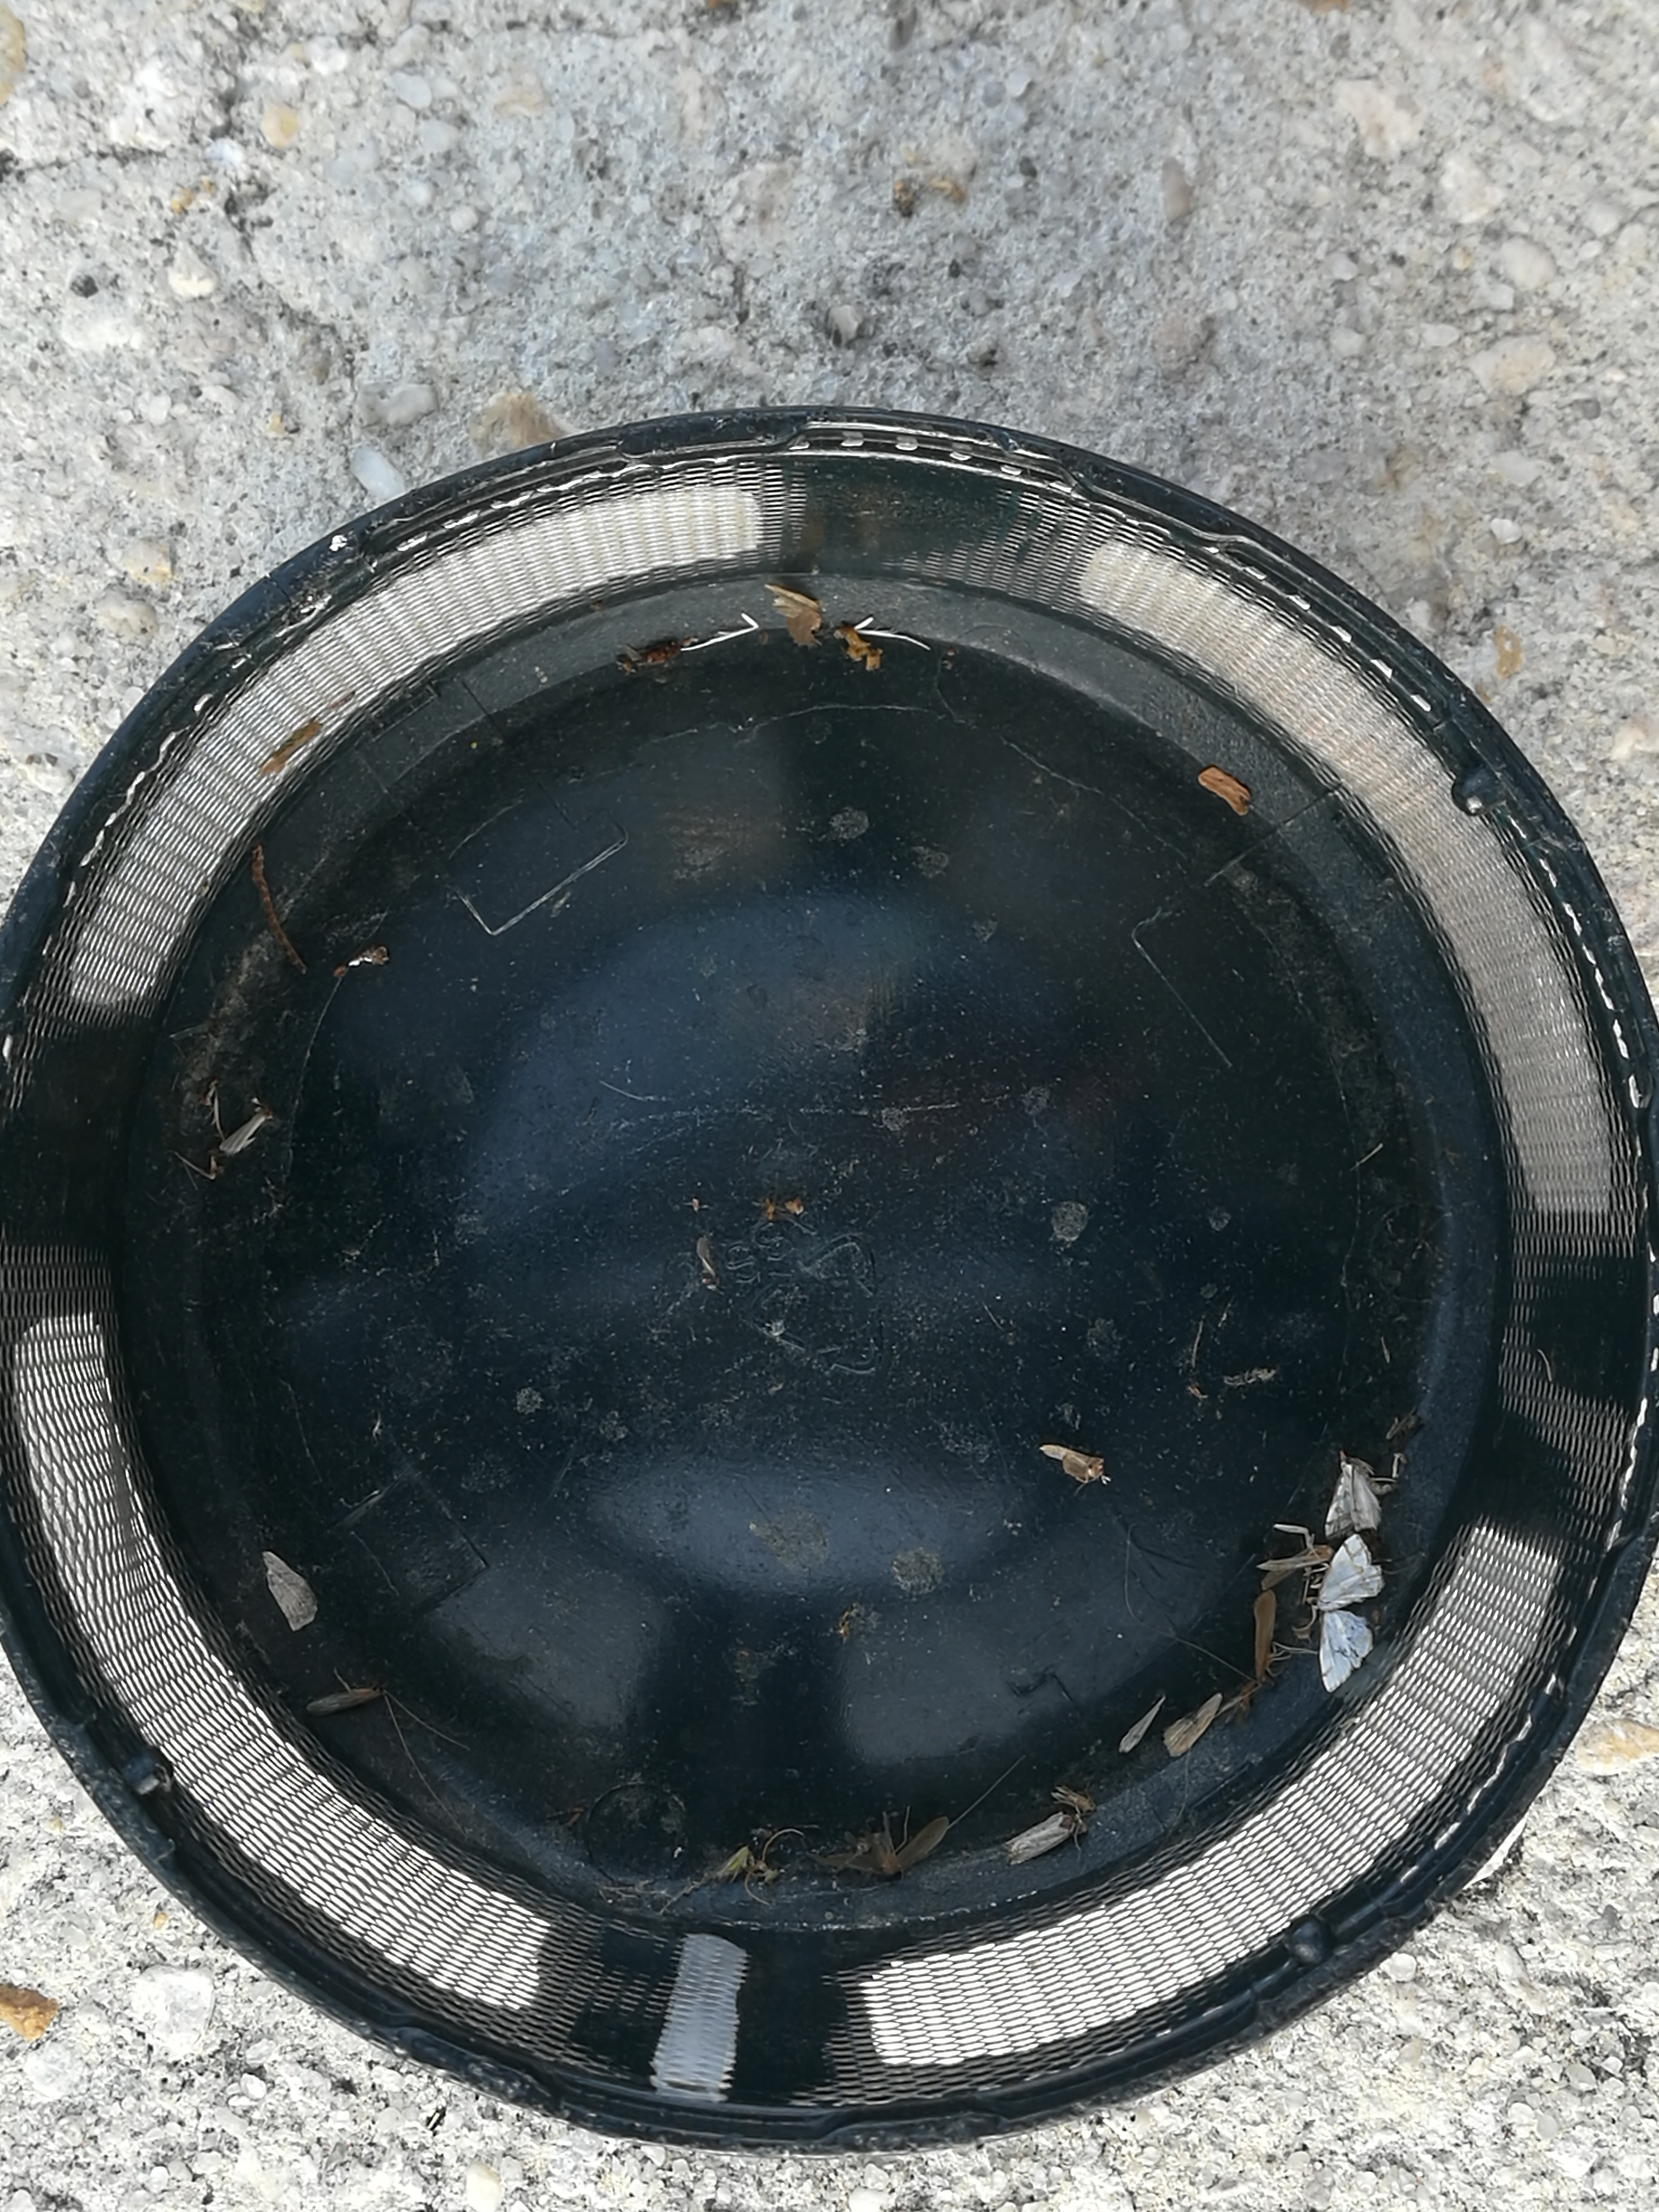mosquito: (1004, 1813, 1075, 1864), (305, 1684, 385, 1719), (1255, 1550, 1330, 1585), (1251, 1590, 1277, 1688), (1054, 1789, 1096, 1810)
moth: (1321, 1536, 1384, 1689), (819, 1813, 951, 1883), (1323, 1461, 1382, 1536)
